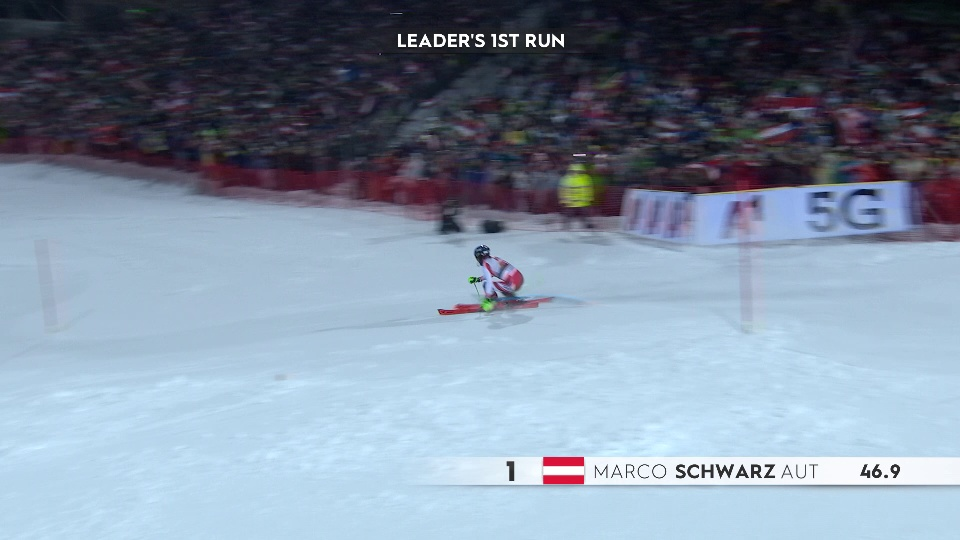5g: (802, 185, 895, 241)
a1: (716, 196, 777, 238)
